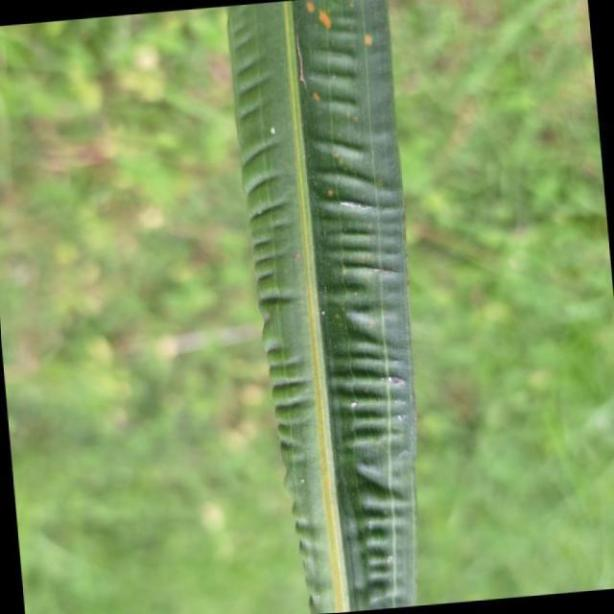Boron: (227, 0, 419, 614)
